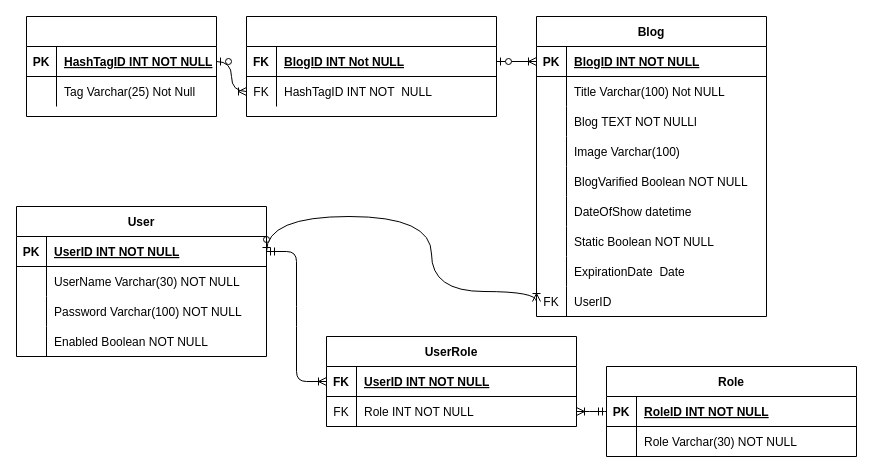
This 873x473 diagram has some shape labels left out. The shapes that lost their labels are listed below. From the top down, each one's box as (x1, y1, x2, y2) in pixels, then its label:
(26, 16, 216, 116): Tags
(246, 16, 496, 116): TagBlog
